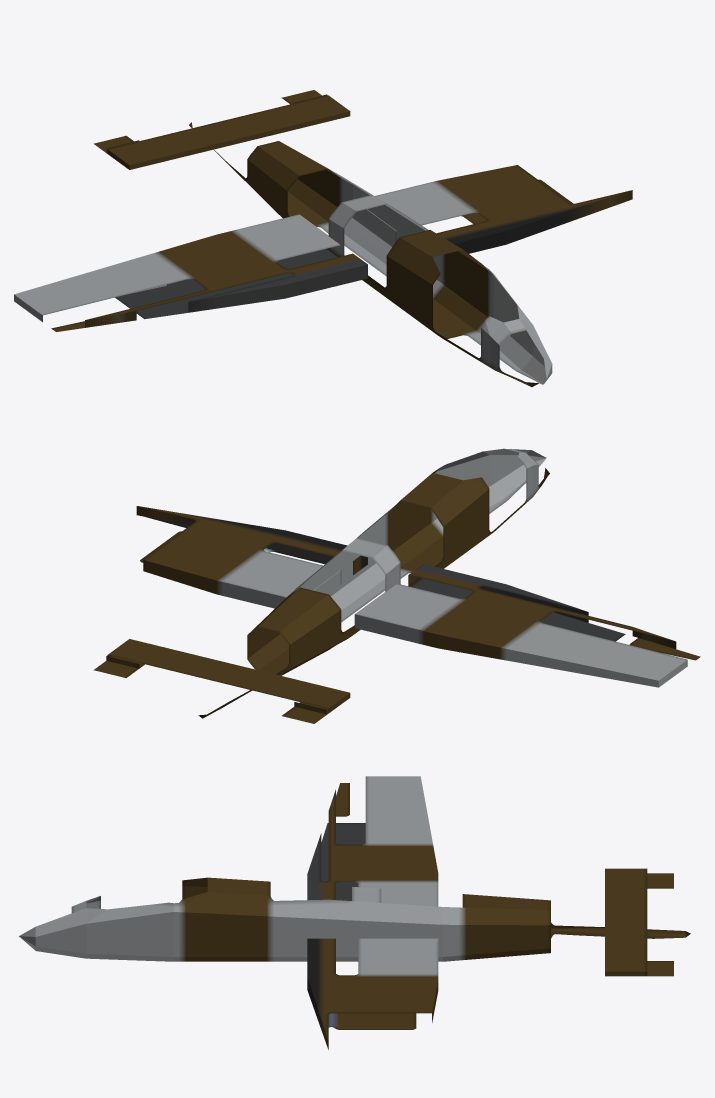
The model's file is javi_plane.obj.
3 views of the same model, one above another, from view 1: azimuth 30°, elevation 25°; view 2: azimuth 150°, elevation 25°; view 3: azimuth 270°, elevation 25° (orthographic). The views are drawn at different scales.
Parts seen in each view (by area): view 1: body, wing1, wing0, wing5, wing4, surface1; view 2: body, wing1, wing0, surface1, wing5, wing4; view 3: body, wing1, wing0, wing4, wing5, surface1.
Part boxes in pixels (x1=…): body: x1=189, y1=122, x2=552, y2=386; wing1: x1=14, y1=214, x2=367, y2=331; wing0: x1=355, y1=165, x2=632, y2=253; wing5: x1=106, y1=122, x2=239, y2=169; wing4: x1=218, y1=94, x2=350, y2=142; surface1: x1=40, y1=256, x2=166, y2=301; body: x1=198, y1=448, x2=549, y2=718; wing1: x1=354, y1=564, x2=700, y2=687; wing0: x1=136, y1=506, x2=367, y2=608; surface1: x1=519, y1=633, x2=649, y2=682; wing5: x1=218, y1=666, x2=350, y2=714; wing4: x1=106, y1=639, x2=239, y2=681; body: x1=19, y1=877, x2=690, y2=961; wing1: x1=307, y1=776, x2=438, y2=906; wing0: x1=307, y1=938, x2=438, y2=1049; wing4: x1=605, y1=920, x2=649, y2=976; wing5: x1=605, y1=868, x2=649, y2=920; surface1: x1=385, y1=789, x2=431, y2=837.
Size of the model in its own units: 19.41 by 4.76 by 18.75.
